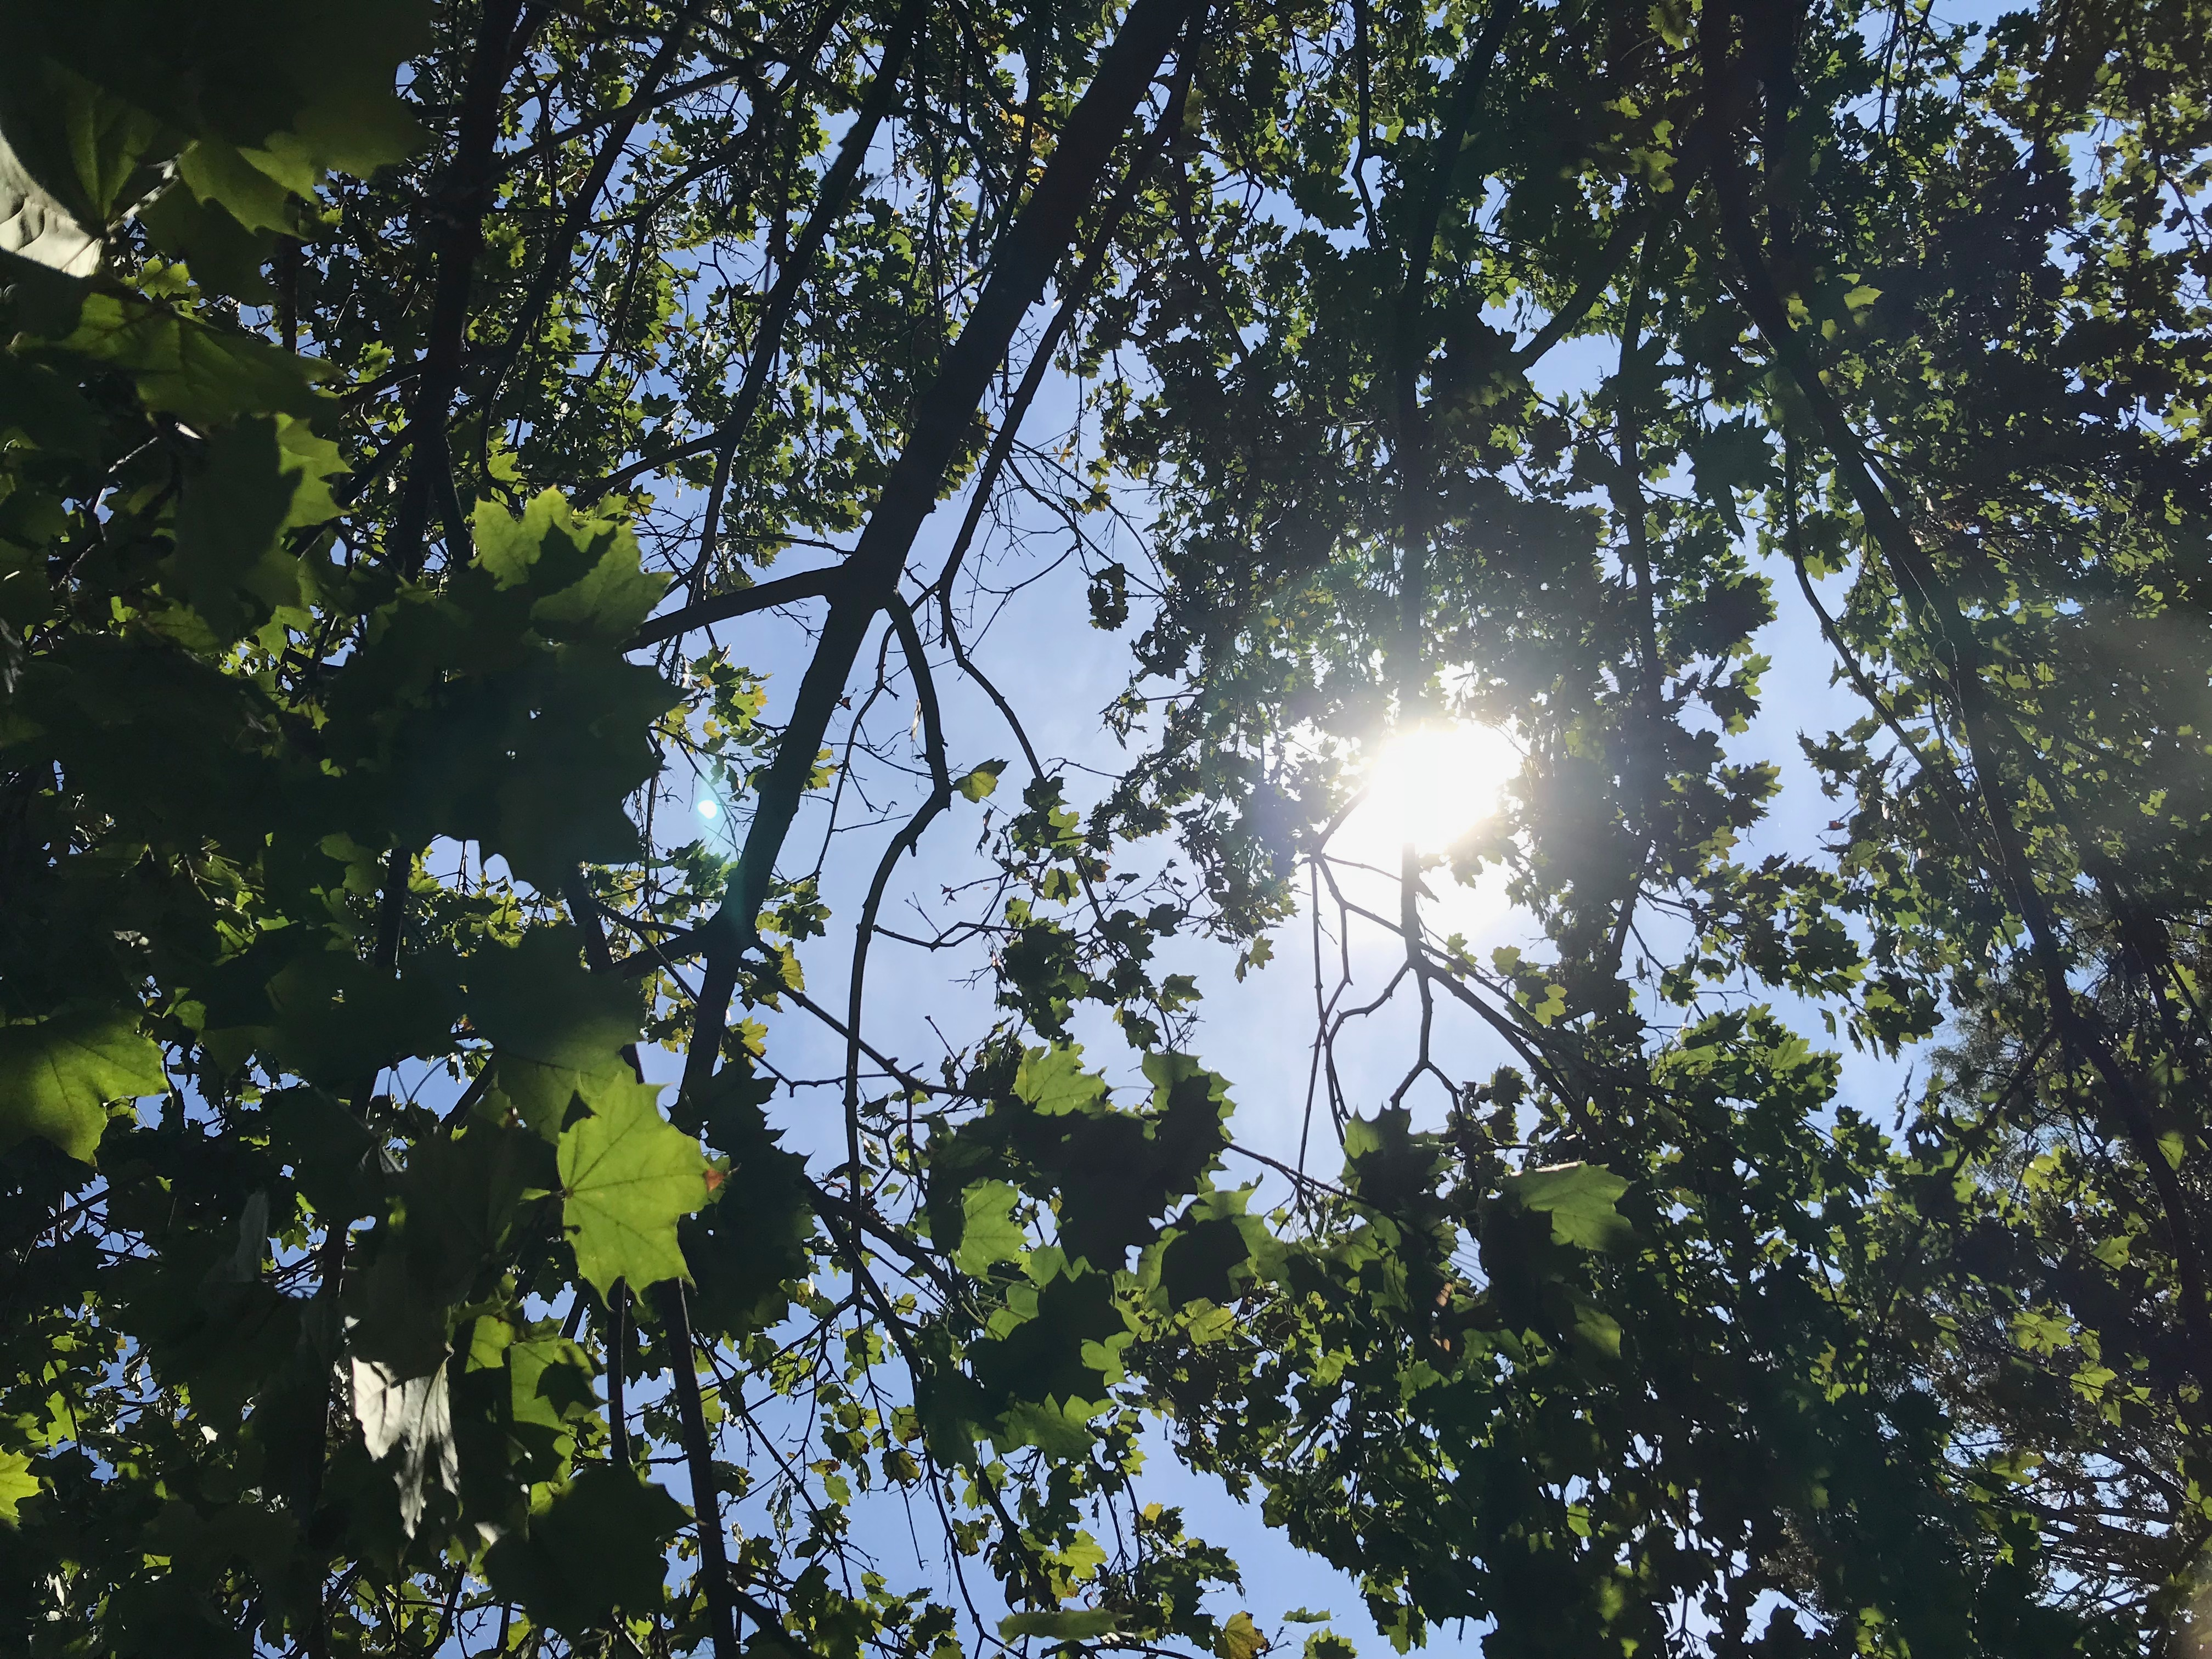flare: (697, 798, 719, 821)
